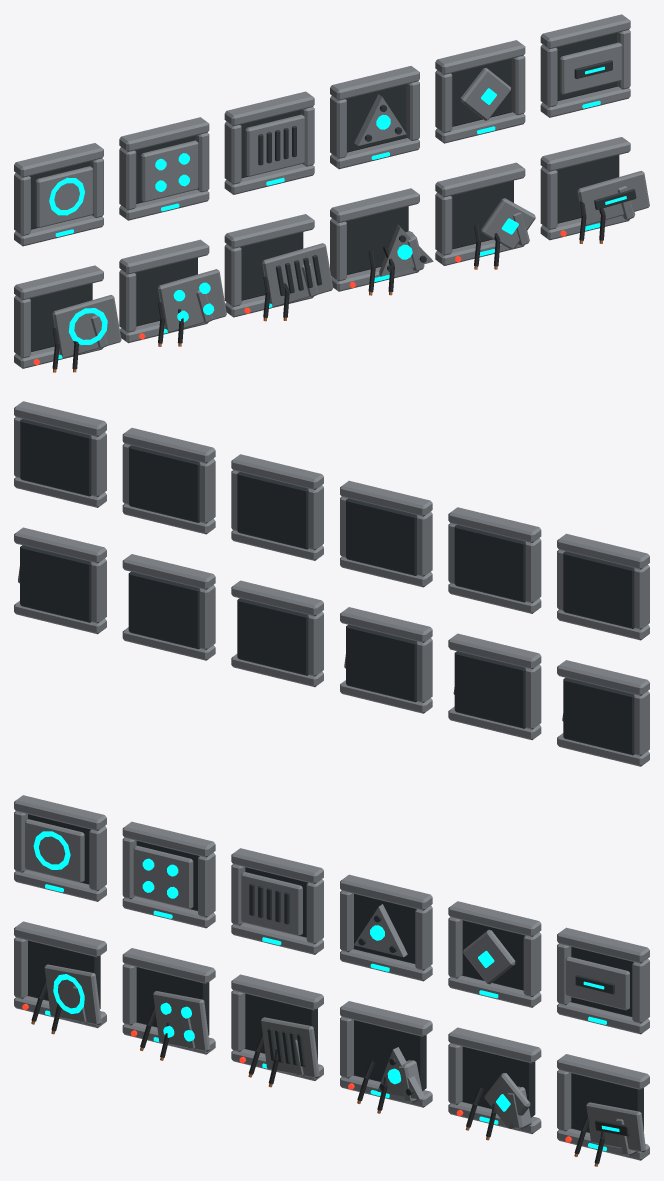
File: QF_MachineNodeKitV1.fbx
3 views of the same model, one above another, from view 1: azimuth 30°, elevation 25°; view 2: azimuth 150°, elevation 25°; view 3: azimuth 330°, elevation 25° (orthographic). The views are drawn at different scales.
Parts seen in each view (by area): view 1: Cavity.007, SensorPlate, RingPlate, SensorPlate.001, Cavity.009, RingPlate.001, VentPlate, VentPlate.001, Cavity.011, HorizontalPlate, Cavity.006, Cavity.005 (+56 smaller); view 2: Cavity.006, Cavity.001, Cavity.003, Cavity.009, Cavity.002, Cavity.007, Cavity.011, Cavity, Cavity.010, Cavity.008, Cavity.005, Cavity.004 (+36 smaller); view 3: Cavity.007, Cavity.009, SensorPlate, RingPlate, VentPlate, Cavity.011, HorizontalPlate, Cavity.003, SensorPlate.001, Cavity.006, Cavity.001, RingPlate.001 (+55 smaller).
Boxes of the visible parts, bbox=[...] form: Cavity.007: bbox=[346, 206, 408, 274]; SensorPlate: bbox=[141, 140, 198, 202]; RingPlate: bbox=[35, 166, 93, 227]; SensorPlate.001: bbox=[158, 269, 226, 332]; Cavity.009: bbox=[451, 180, 513, 249]; RingPlate.001: bbox=[52, 295, 121, 358]; VentPlate: bbox=[245, 114, 304, 176]; VentPlate.001: bbox=[262, 243, 333, 307]; Cavity.011: bbox=[556, 155, 619, 223]; HorizontalPlate: bbox=[560, 42, 622, 94]; Cavity.006: bbox=[345, 84, 406, 152]; Cavity.005: bbox=[240, 232, 303, 300]; Cavity.006: bbox=[237, 472, 308, 549]; Cavity.001: bbox=[563, 677, 634, 755]; Cavity.003: bbox=[454, 651, 525, 728]; Cavity.009: bbox=[128, 571, 200, 649]; Cavity.002: bbox=[454, 524, 525, 602]; Cavity.007: bbox=[237, 598, 308, 675]; Cavity.011: bbox=[20, 545, 91, 622]; Cavity: bbox=[563, 551, 634, 628]; Cavity.010: bbox=[20, 419, 91, 496]; Cavity.008: bbox=[128, 445, 200, 522]; Cavity.005: bbox=[346, 624, 417, 702]; Cavity.004: bbox=[346, 498, 417, 575]; Cavity.007: bbox=[353, 1020, 426, 1090]; Cavity.009: bbox=[462, 1046, 535, 1117]; SensorPlate: bbox=[133, 845, 193, 909]; RingPlate: bbox=[25, 819, 84, 882]; VentPlate: bbox=[241, 872, 302, 936]; Cavity.011: bbox=[570, 1073, 643, 1132]; HorizontalPlate: bbox=[565, 956, 629, 1010]; Cavity.003: bbox=[136, 967, 209, 1035]; SensorPlate.001: bbox=[153, 991, 210, 1051]; Cavity.006: bbox=[353, 894, 416, 963]; Cavity.001: bbox=[27, 940, 100, 1008]; RingPlate.001: bbox=[44, 964, 101, 1025].
Bounding box in the file's own units: 13.26 × 4.29 × 0.7141.
